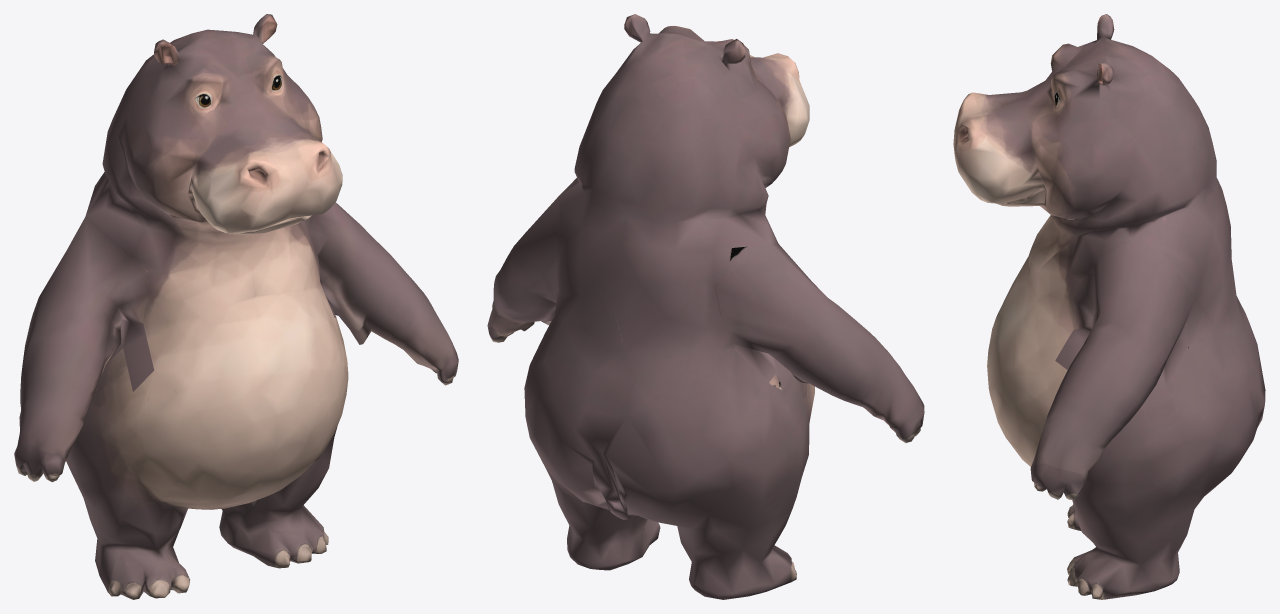
File: hippo-arms.glb
3 views of the same model, side by side, from view 1: azimuth 30°, elevation 25°; view 2: azimuth 150°, elevation 25°; view 3: azimuth 270°, elevation 25° (orthographic). The views are drawn at different scales.
Visible parts, largest first — view 1: hippo; view 2: hippo; view 3: hippo.
Boxes of the visible parts, box(x1,y1,x2,y2) form: hippo: box(14, 14, 458, 599); hippo: box(487, 14, 924, 599); hippo: box(953, 14, 1265, 599).
Bounding box in the file's own units: 1.6 × 1.9 × 1.05.
1 material, 1 textured.
